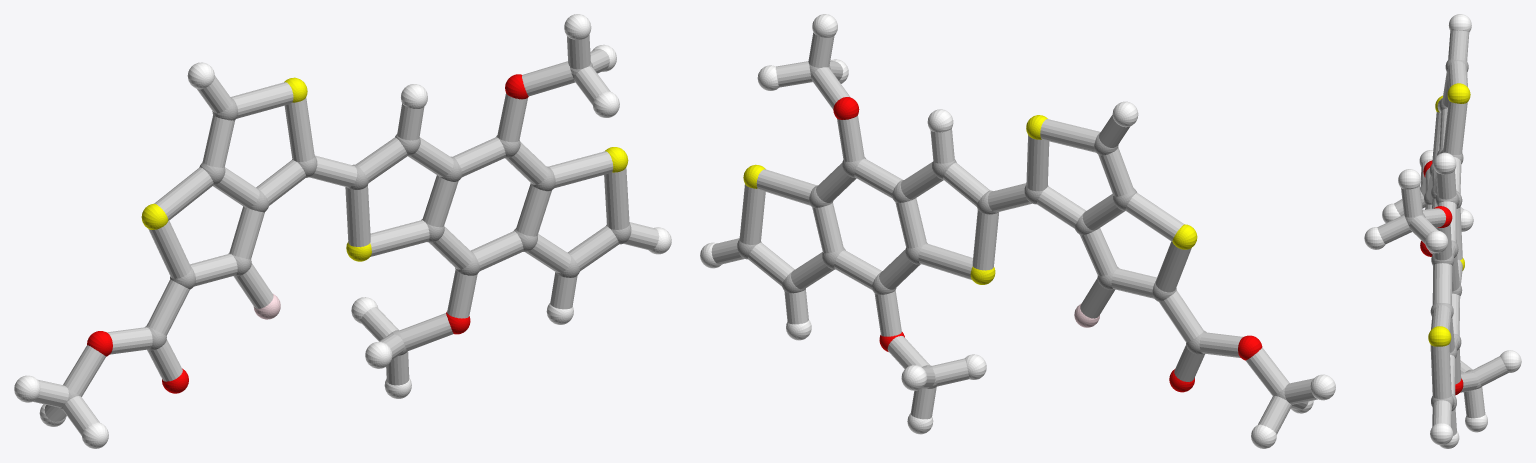
File: color.glb
The picture shows the model from 3 angles, left to right: view 1: azimuth 30°, elevation 25°; view 2: azimuth 150°, elevation 25°; view 3: azimuth 270°, elevation 25°; orthographic projection. The views are drawn at different scales.
Visible parts, largest first — view 1: grp15205, grp8689, grp1, grp7241, grp13395; view 2: grp15205, grp8689, grp1, grp7241, grp13395; view 3: grp15205, grp8689, grp1, grp7241, grp13395.
Part boxes in pixels (<box>): grp15205: <box>33,35,659,435</box>; grp8689: <box>14,14,671,448</box>; grp1: <box>59,62,631,410</box>; grp7241: <box>141,77,628,261</box>; grp13395: <box>87,74,528,393</box>; grp15205: <box>711,32,1317,434</box>; grp8689: <box>700,14,1335,448</box>; grp1: <box>737,64,1293,405</box>; grp7241: <box>743,115,1197,284</box>; grp13395: <box>833,97,1262,392</box>; grp15205: <box>1377,30,1508,435</box>; grp8689: <box>1364,14,1521,448</box>; grp1: <box>1405,59,1481,410</box>; grp7241: <box>1428,83,1470,346</box>; grp13395: <box>1420,160,1463,395</box>.
Bounding box in the file's own units: 16.78 × 9.51 × 4.09.
